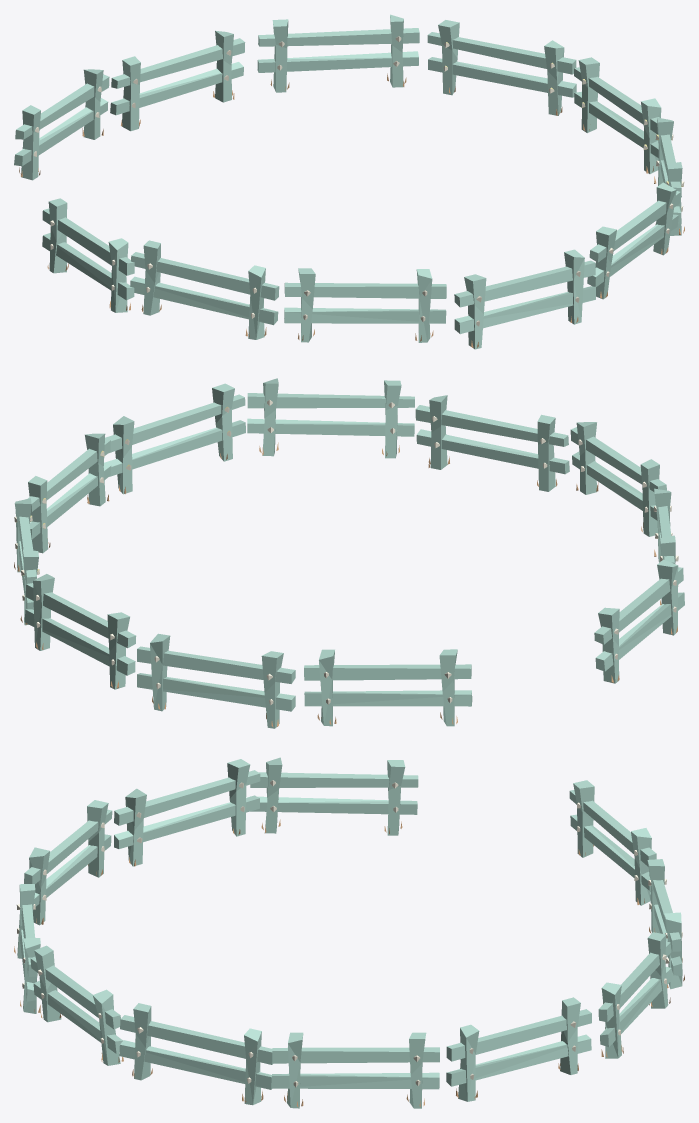
Rendered from fence-green.gltf.
The picture shows the model from 3 angles, top to bottom: view 1: azimuth 30°, elevation 25°; view 2: azimuth 150°, elevation 25°; view 3: azimuth 270°, elevation 25°; orthographic projection. The views are drawn at different scales.
Parts seen in each view (by area): view 1: Cube.012, Cube.013, Cube.016, Cube.010, Cube.002, Cube.007, Cube.014, Cube.015, Cube.008, Cube.001, Cube.009; view 2: Cube.015, Cube.007, Cube.010, Cube.008, Cube.009, Cube.016, Cube.014, Cube.012, Cube.001, Cube.002, Cube.013; view 3: Cube.001, Cube.009, Cube.002, Cube.014, Cube.013, Cube.008, Cube.015, Cube.016, Cube.012, Cube.007, Cube.010.
Part boxes in pixels (x1,y1,x2,y2): Cube.012: [284, 268, 446, 342]; Cube.013: [130, 240, 279, 339]; Cube.016: [257, 14, 419, 92]; Cube.010: [454, 249, 595, 349]; Cube.002: [427, 20, 576, 115]; Cube.007: [110, 30, 245, 131]; Cube.014: [42, 198, 134, 312]; Cube.015: [14, 69, 109, 180]; Cube.008: [587, 182, 680, 299]; Cube.001: [574, 57, 661, 173]; Cube.009: [654, 117, 684, 235]; Cube.015: [304, 649, 472, 726]; Cube.007: [137, 633, 295, 728]; Cube.010: [415, 395, 569, 491]; Cube.008: [247, 378, 414, 458]; Cube.009: [104, 383, 245, 494]; Cube.016: [25, 574, 136, 689]; Cube.014: [594, 559, 684, 683]; Cube.012: [570, 422, 666, 536]; Cube.001: [27, 433, 111, 553]; Cube.002: [14, 498, 39, 625]; Cube.013: [653, 488, 678, 605]; Cube.001: [272, 1032, 439, 1108]; Cube.009: [119, 1003, 272, 1105]; Cube.002: [446, 997, 591, 1101]; Cube.014: [250, 757, 418, 835]; Cube.013: [114, 759, 260, 866]; Cube.008: [30, 945, 123, 1065]; Cube.015: [569, 780, 656, 905]; Cube.016: [598, 932, 672, 1058]; Cube.012: [24, 800, 112, 925]; Cube.007: [647, 859, 684, 989]; Cube.010: [14, 884, 40, 1013].
Size of the model in its own units: 11.34 by 1.63 by 11.29.
